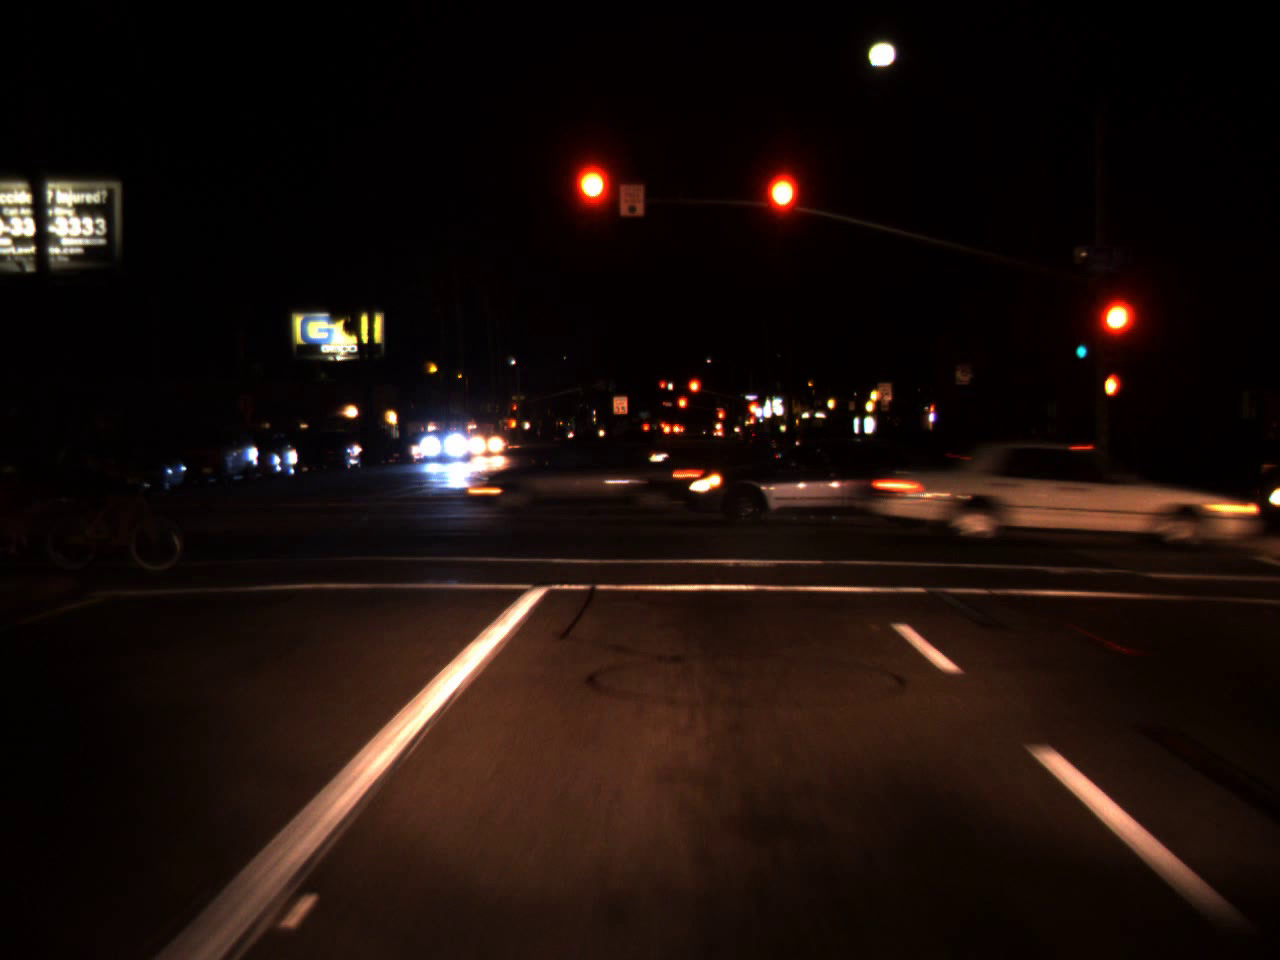stop: (764, 171, 800, 246), (572, 169, 611, 233), (1101, 303, 1131, 354), (686, 377, 702, 409), (745, 400, 758, 427), (715, 408, 727, 429), (656, 377, 668, 395), (677, 397, 687, 418), (511, 402, 517, 418)
